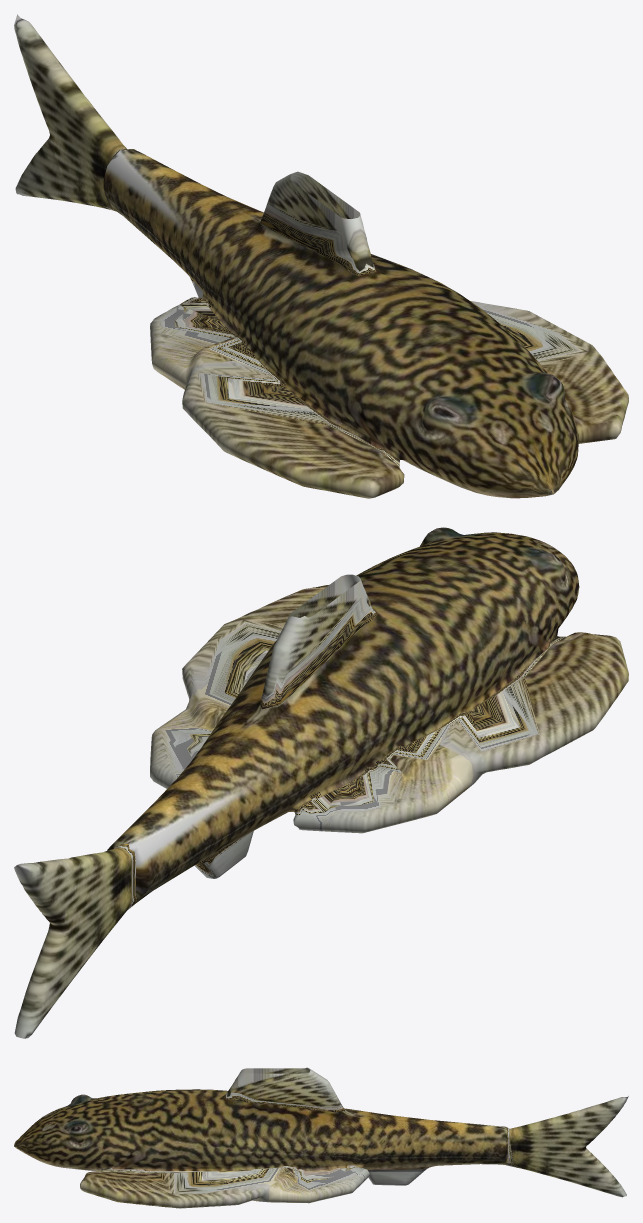
File: hillloach.lo.glb
The picture shows the model from 3 angles, top to bottom: view 1: azimuth 30°, elevation 25°; view 2: azimuth 150°, elevation 25°; view 3: azimuth 270°, elevation 25°; orthographic projection. The views are drawn at different scales.
Parts seen in each view (by area): view 1: hillloach, hillloach_fin; view 2: hillloach, hillloach_fin; view 3: hillloach, hillloach_fin.
Boxes of the visible parts, x1,y1,x2,y2 form: hillloach: (103, 149, 578, 498); hillloach_fin: (14, 14, 628, 498); hillloach: (107, 527, 579, 903); hillloach_fin: (14, 574, 628, 1038); hillloach: (14, 1089, 507, 1171); hillloach_fin: (80, 1067, 628, 1208).
Bounding box in the file's own units: 0.0268 × 0.0151 × 0.0663.
2 materials, 2 textured.
